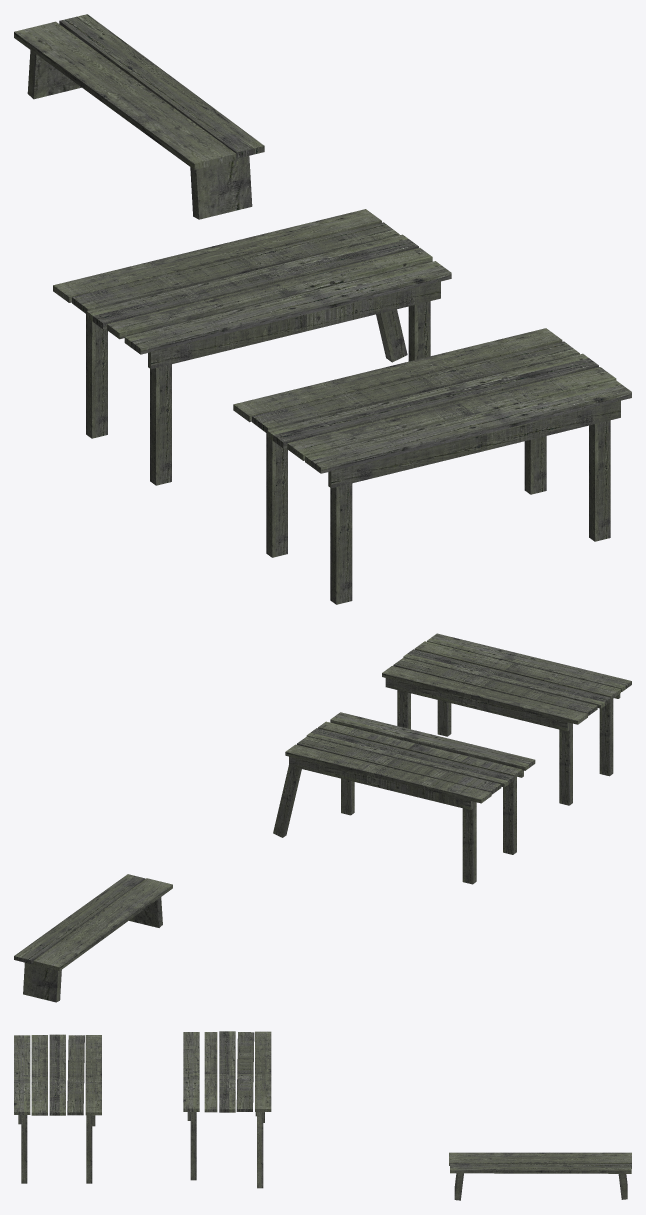
Rendered from Table-2.fbx.
The picture shows the model from 3 angles, top to bottom: view 1: azimuth 30°, elevation 25°; view 2: azimuth 150°, elevation 25°; view 3: azimuth 270°, elevation 25°; orthographic projection. The views are drawn at different scales.
Parts seen in each view (by area): view 1: Group3, Group2, Group1; view 2: Group2, Group3, Group1; view 3: Group3, Group2, Group1.
Part boxes in pixels (x1,y1,x2,y2): Group3: (233,328,631,604); Group2: (53,209,451,485); Group1: (14,14,264,219); Group2: (273,712,535,884); Group3: (382,633,631,805); Group1: (14,874,172,1002); Group3: (14,1034,101,1183); Group2: (183,1031,271,1188); Group1: (449,1152,631,1200).
Bounding box in the file's own units: 170 × 61.28 × 458.
